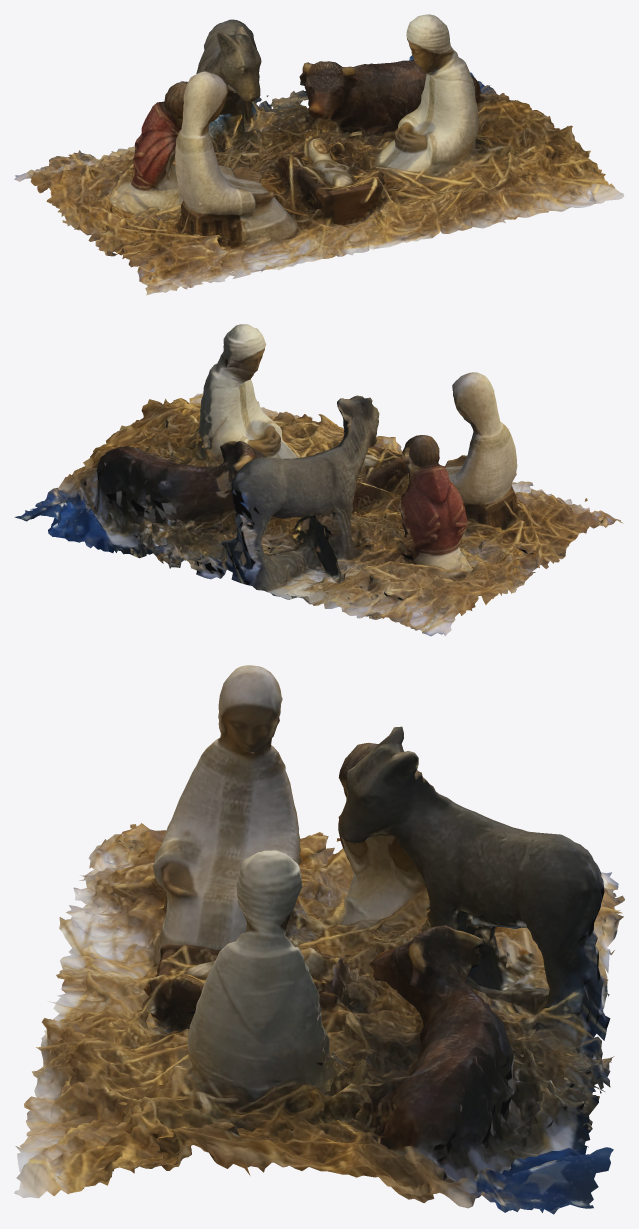
File: nativity.glb
3 renders of one model, top to bottom at view 1: azimuth 30°, elevation 25°; view 2: azimuth 150°, elevation 25°; view 3: azimuth 270°, elevation 25°, orthographic. The views are drawn at different scales.
Parts seen in each view (by area): view 1: Object_3, Object_2, Object_4; view 2: Object_3, Object_4, Object_2; view 3: Object_3, Object_2, Object_4.
Boxes of the visible parts, <box> form: Object_3: <box>14,14,624,288</box>; Object_2: <box>129,30,581,295</box>; Object_4: <box>21,26,598,291</box>; Object_3: <box>42,324,617,636</box>; Object_4: <box>30,398,620,636</box>; Object_2: <box>14,372,623,570</box>; Object_3: <box>14,726,619,1212</box>; Object_2: <box>17,665,613,1214</box>; Object_4: <box>31,742,624,1212</box>.
Size of the model in its own units: 14.47 by 5.11 by 10.08.
Materials: 3 (3 with a texture image).
